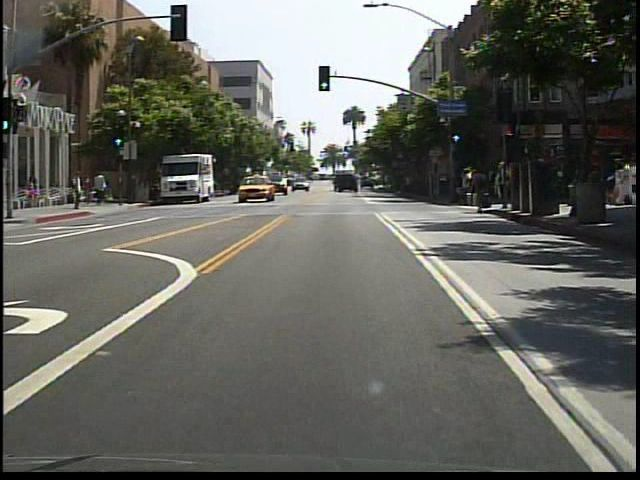person: (468, 162, 491, 218), (71, 169, 87, 213), (94, 169, 110, 205), (28, 176, 43, 210), (82, 174, 95, 205)
